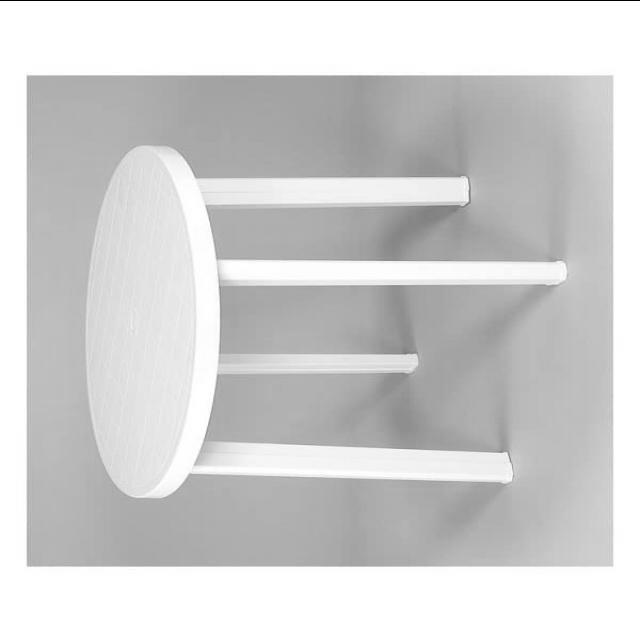table: (86, 143, 572, 499)
